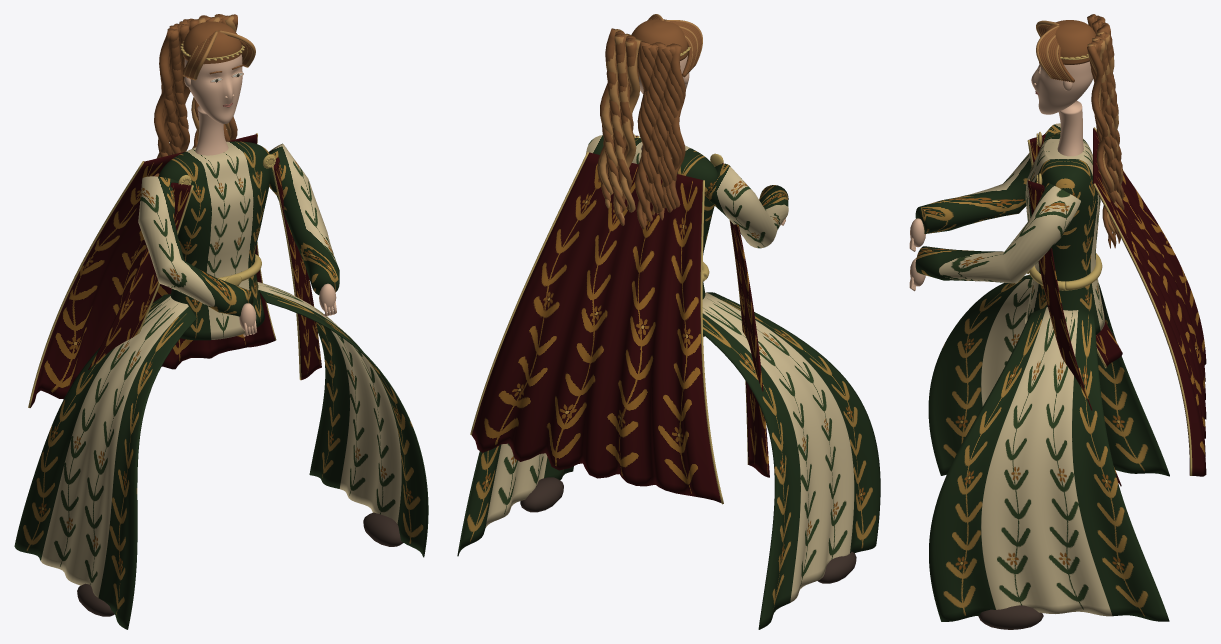
Rendered from princess-v6-mounted.glb.
The picture shows the model from 3 angles, left to right: view 1: azimuth 30°, elevation 25°; view 2: azimuth 150°, elevation 25°; view 3: azimuth 270°, elevation 25°; orthographic projection. The views are drawn at different scales.
Visible parts, largest first — view 1: MorrisPrincess_surface, cape_surface, body_surface, head_surface, armL_surface, armR_surface; view 2: cape_surface, MorrisPrincess_surface, head_surface, armL_surface, body_surface; view 3: MorrisPrincess_surface, cape_surface, body_surface, head_surface, armR_surface, armL_surface.
Part boxes in pixels (bbox=[...]): MorrisPrincess_surface: bbox=[14, 282, 428, 629]; cape_surface: bbox=[28, 133, 321, 407]; body_surface: bbox=[159, 106, 275, 340]; head_surface: bbox=[154, 14, 255, 176]; armL_surface: bbox=[138, 176, 256, 336]; armR_surface: bbox=[268, 143, 339, 316]; cape_surface: bbox=[470, 135, 769, 504]; MorrisPrincess_surface: bbox=[457, 292, 880, 629]; head_surface: bbox=[597, 14, 702, 229]; armL_surface: bbox=[704, 163, 788, 248]; body_surface: bbox=[632, 134, 723, 336]; MorrisPrincess_surface: bbox=[928, 274, 1169, 629]; cape_surface: bbox=[1027, 127, 1206, 486]; body_surface: bbox=[1025, 101, 1104, 334]; head_surface: bbox=[1031, 14, 1124, 248]; armR_surface: bbox=[909, 183, 1082, 291]; armL_surface: bbox=[909, 123, 1060, 251].
Bounding box in the file's own units: 0.948 × 1.52 × 0.767.
Materials: 10 (2 with a texture image).
